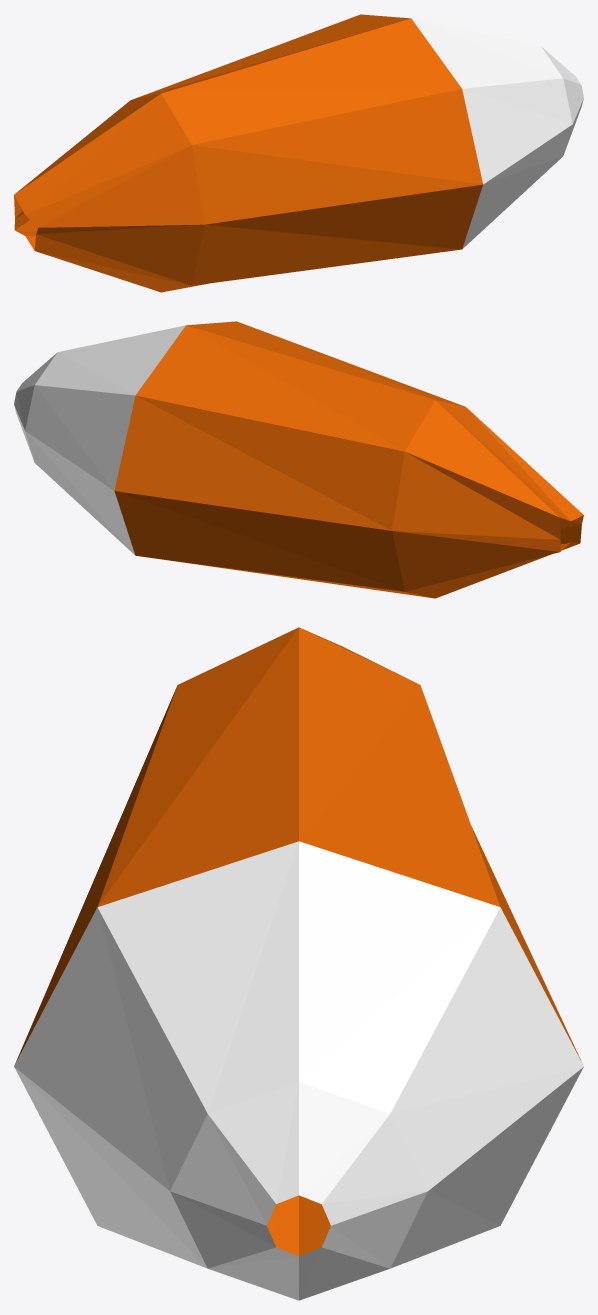
File: FoxTile.fbx
The picture shows the model from 3 angles, top to bottom: view 1: azimuth 30°, elevation 25°; view 2: azimuth 150°, elevation 25°; view 3: azimuth 270°, elevation 25°; orthographic projection. The views are drawn at different scales.
Visible parts, largest first — view 1: Cylinder001; view 2: Cylinder001; view 3: Cylinder001.
Part boxes in pixels (box(x1,y1,x2,y2)): Cylinder001: box(14, 14, 583, 292); Cylinder001: box(14, 321, 583, 598); Cylinder001: box(14, 627, 583, 1300).
Bounding box in the file's own units: 442 × 174 × 200.
